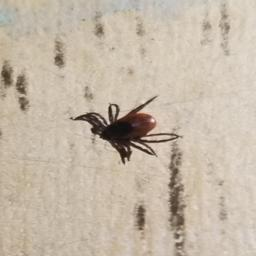Ixodes scapularis: (114, 64, 211, 135)
